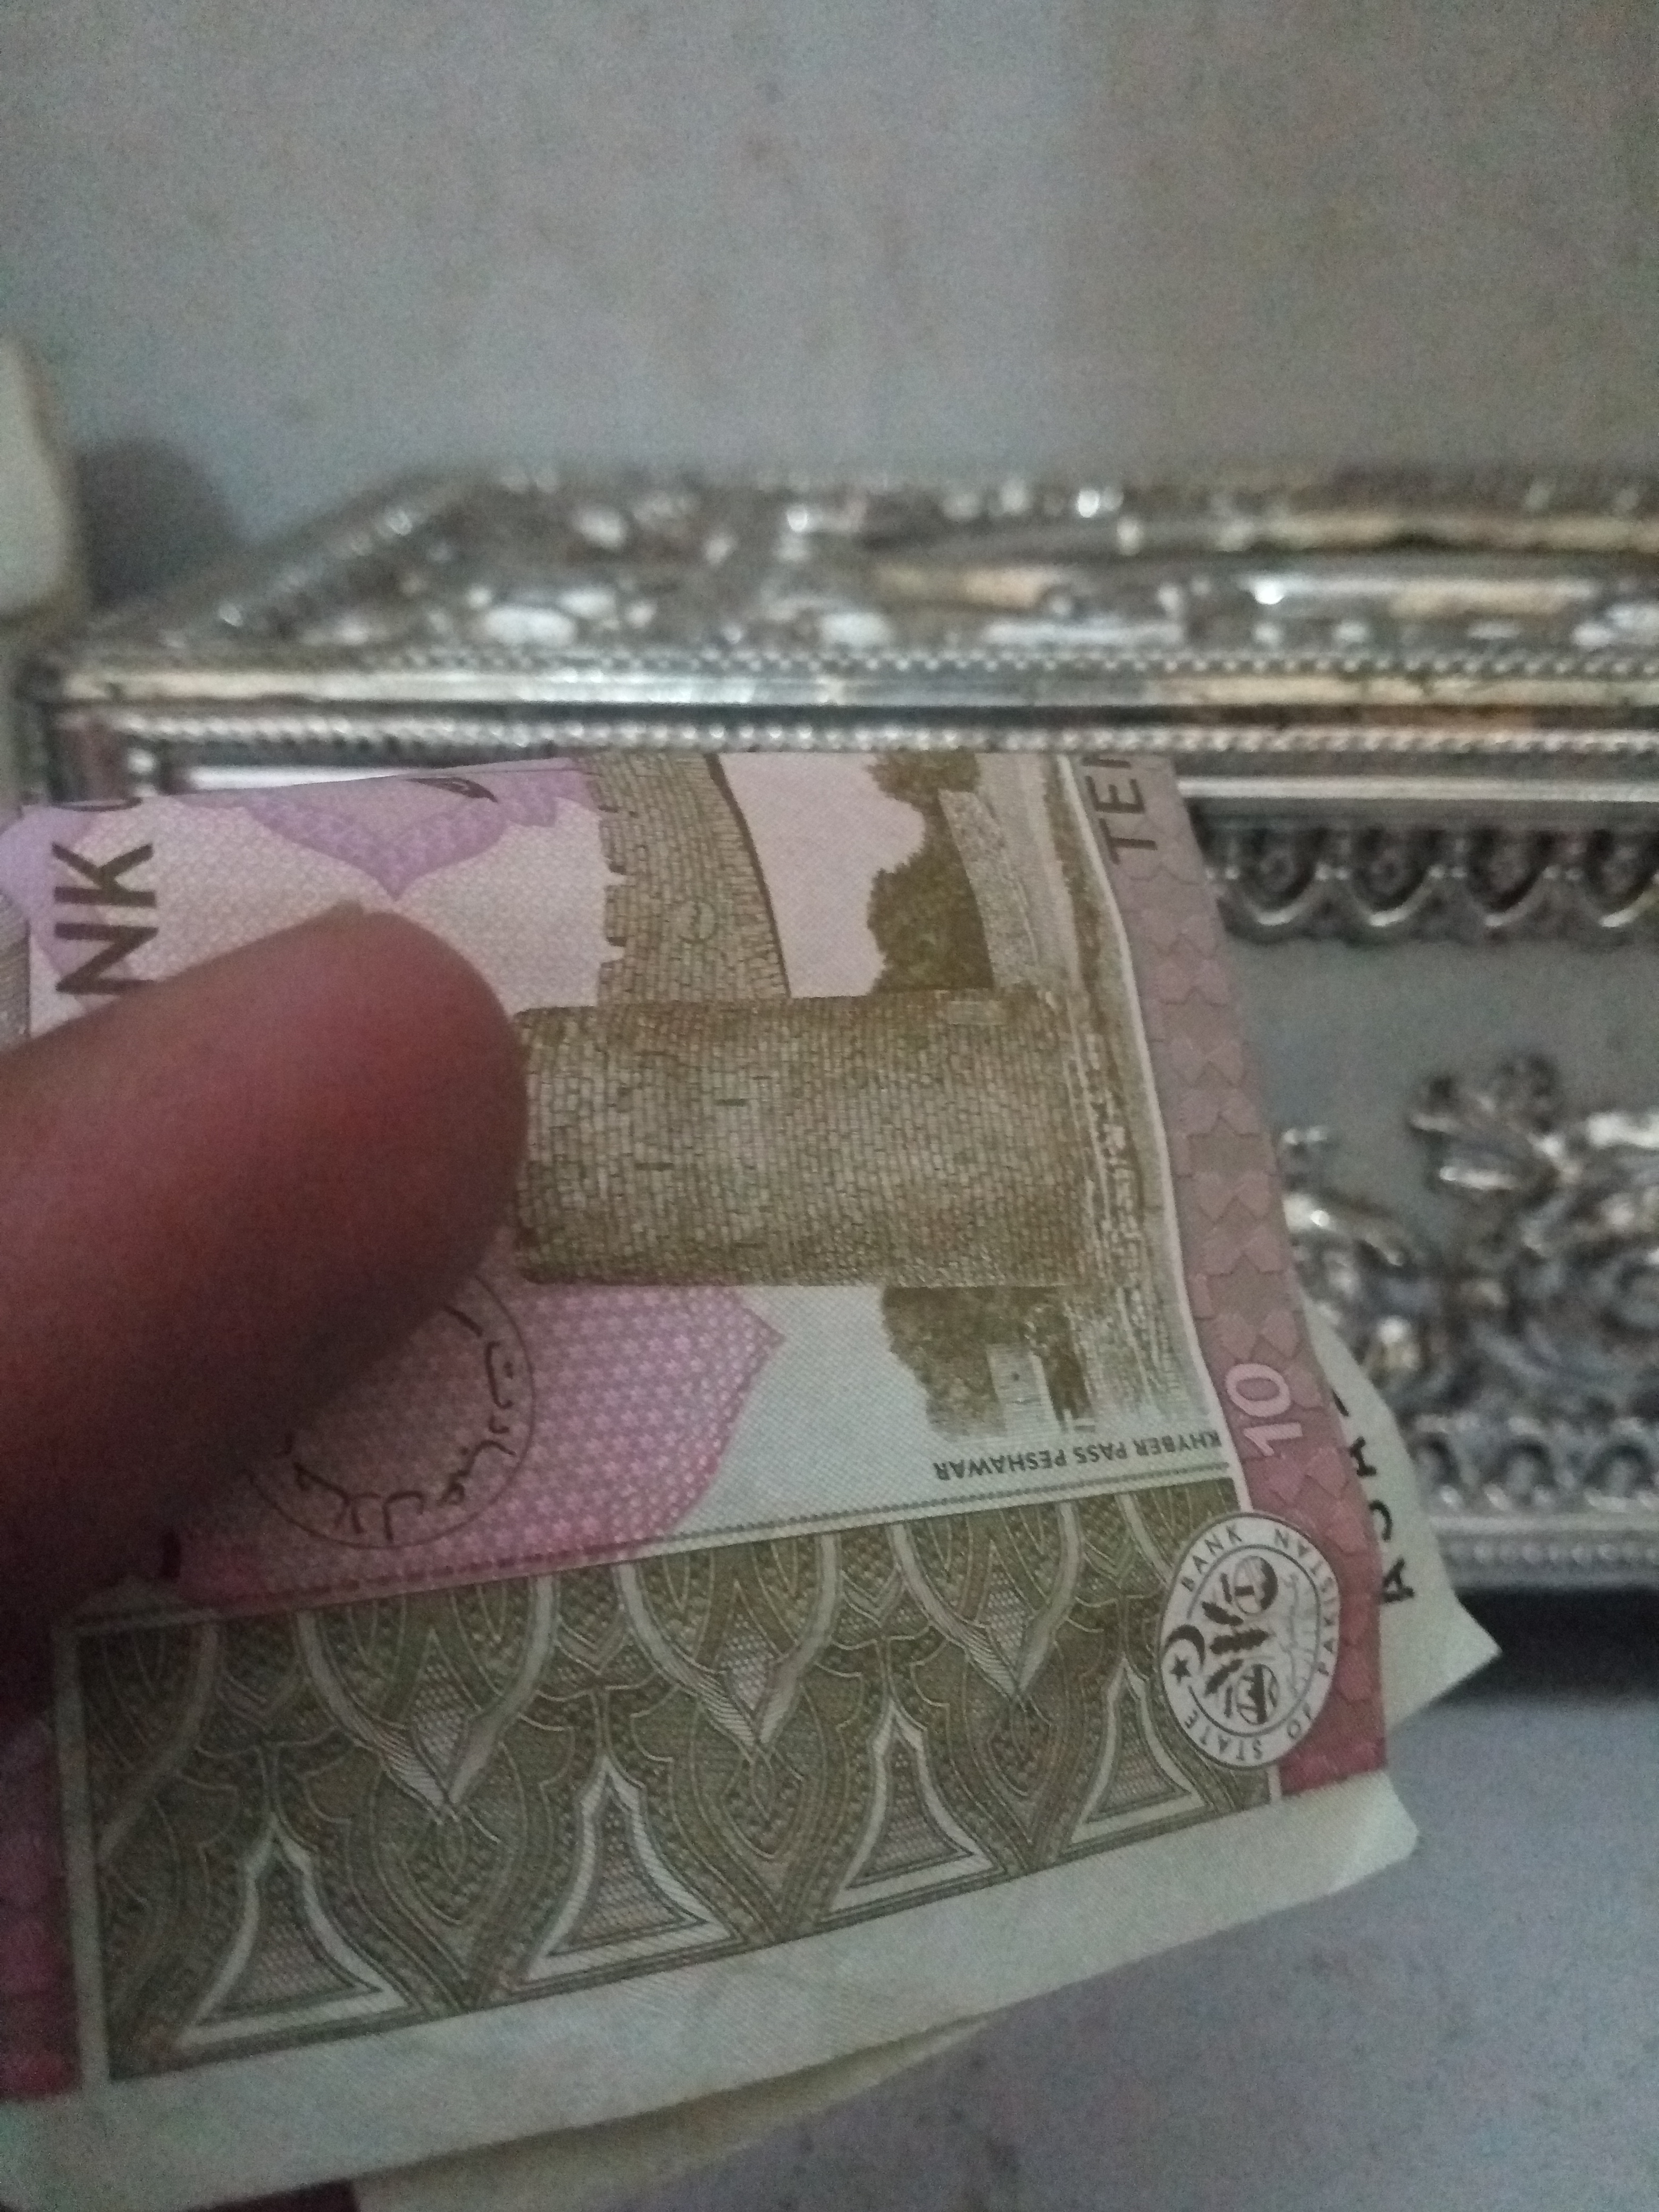10 rupee: (0, 617, 1568, 2132)
